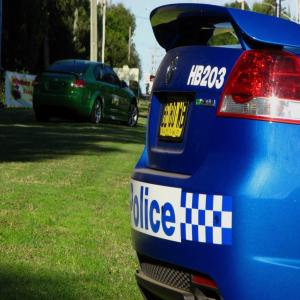Vehicle-registration-plate: (160, 101, 187, 137)
